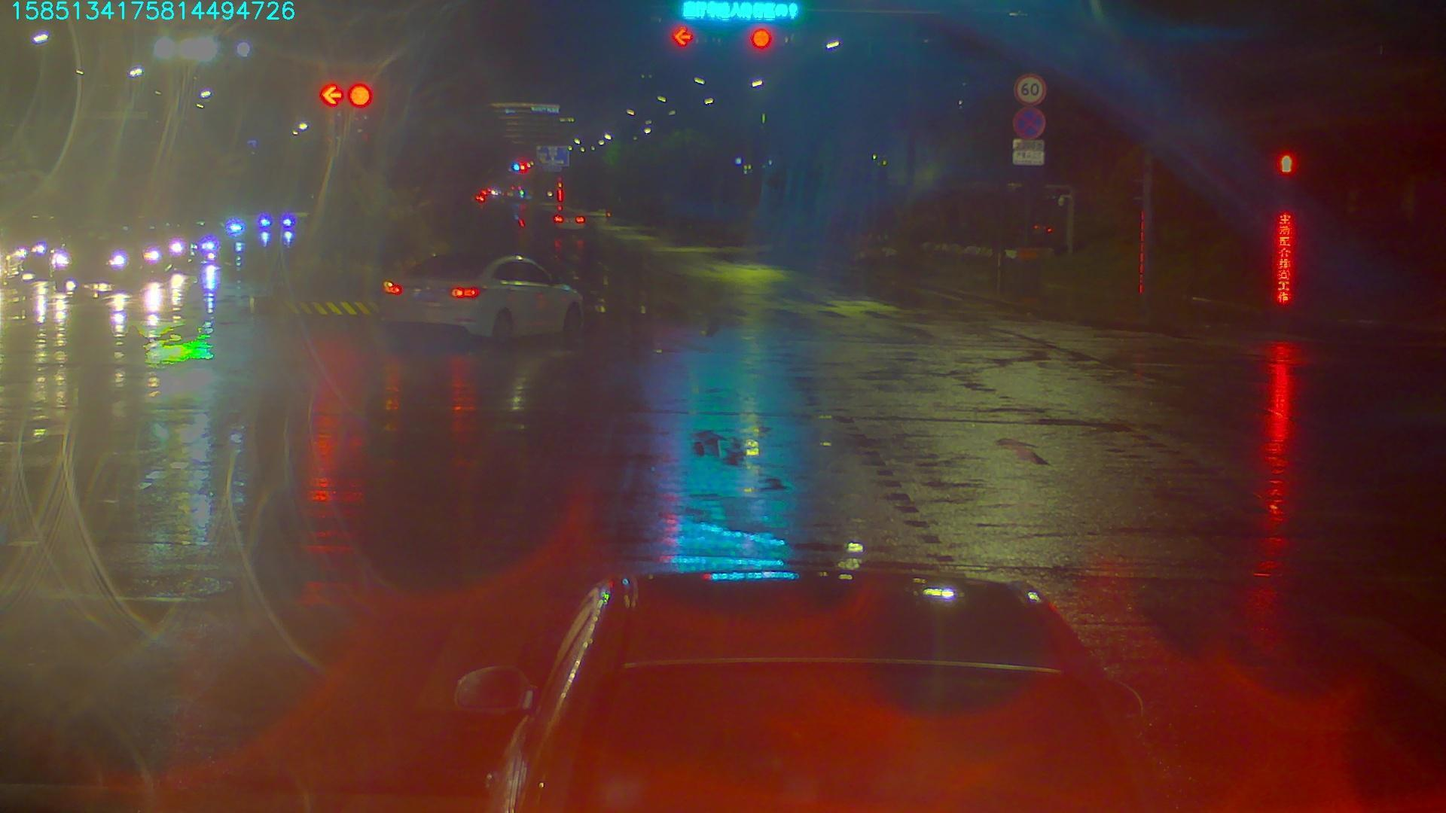red: (667, 25, 694, 47), (749, 29, 776, 50)
wait_on: (680, 0, 804, 18)
